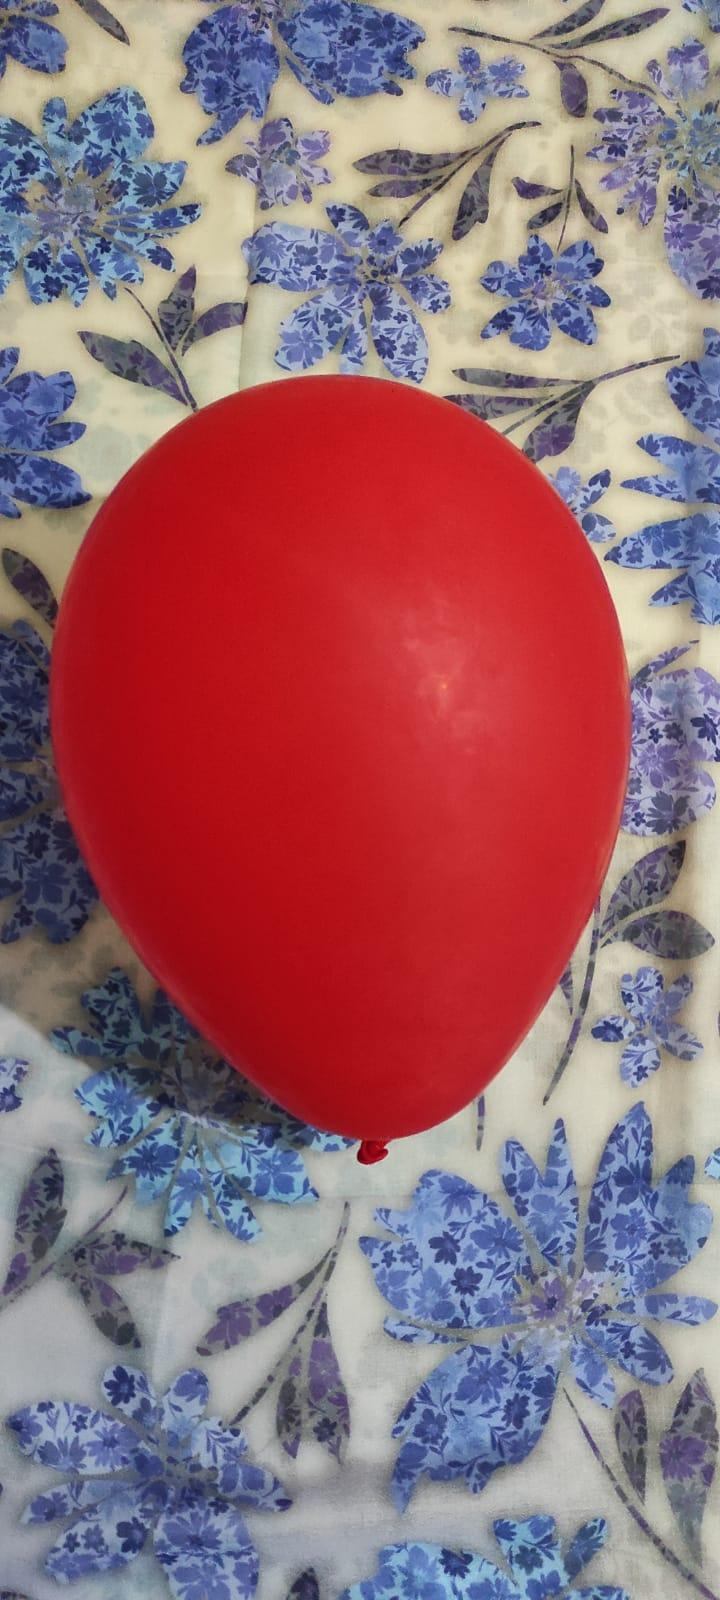red: (34, 370, 637, 1161)
